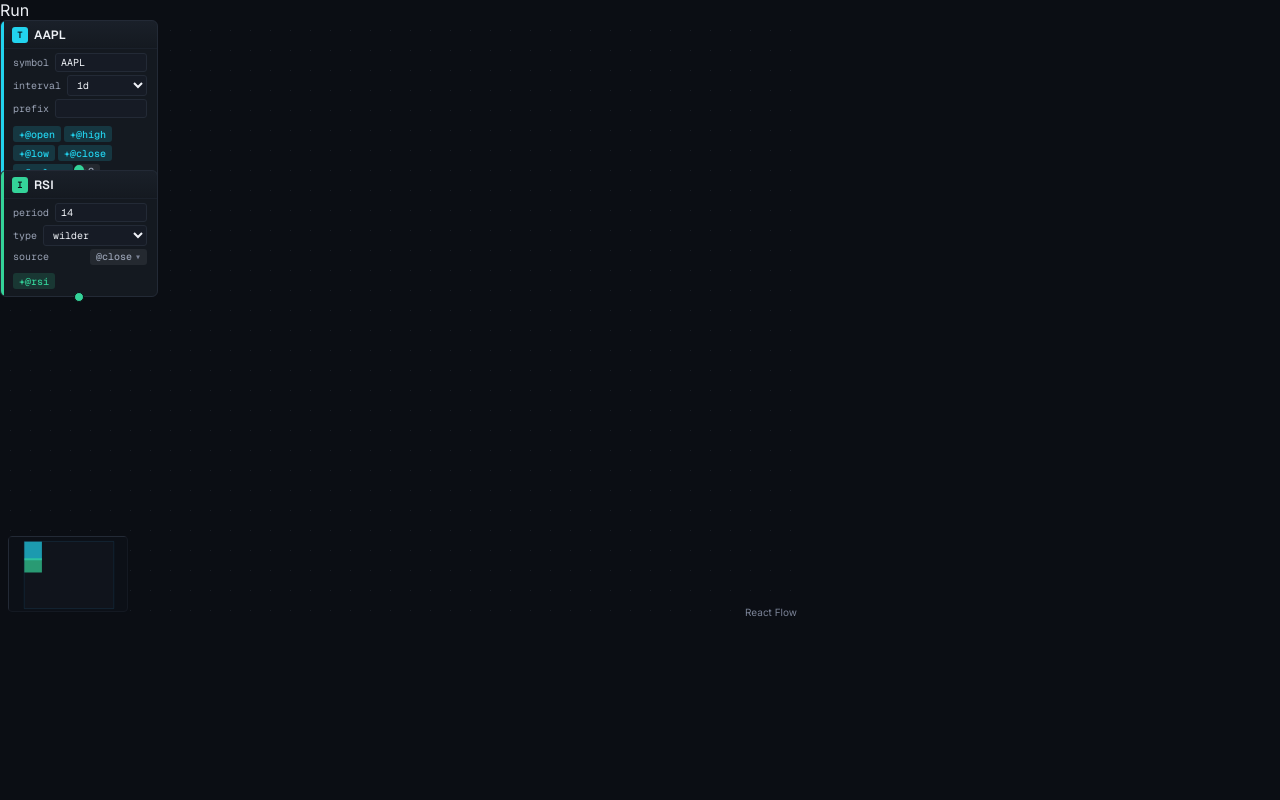
S49 code off › a graph without code: no banner, and the Tab menu’s Wrangle row is disabled and places nothing
Press Tab
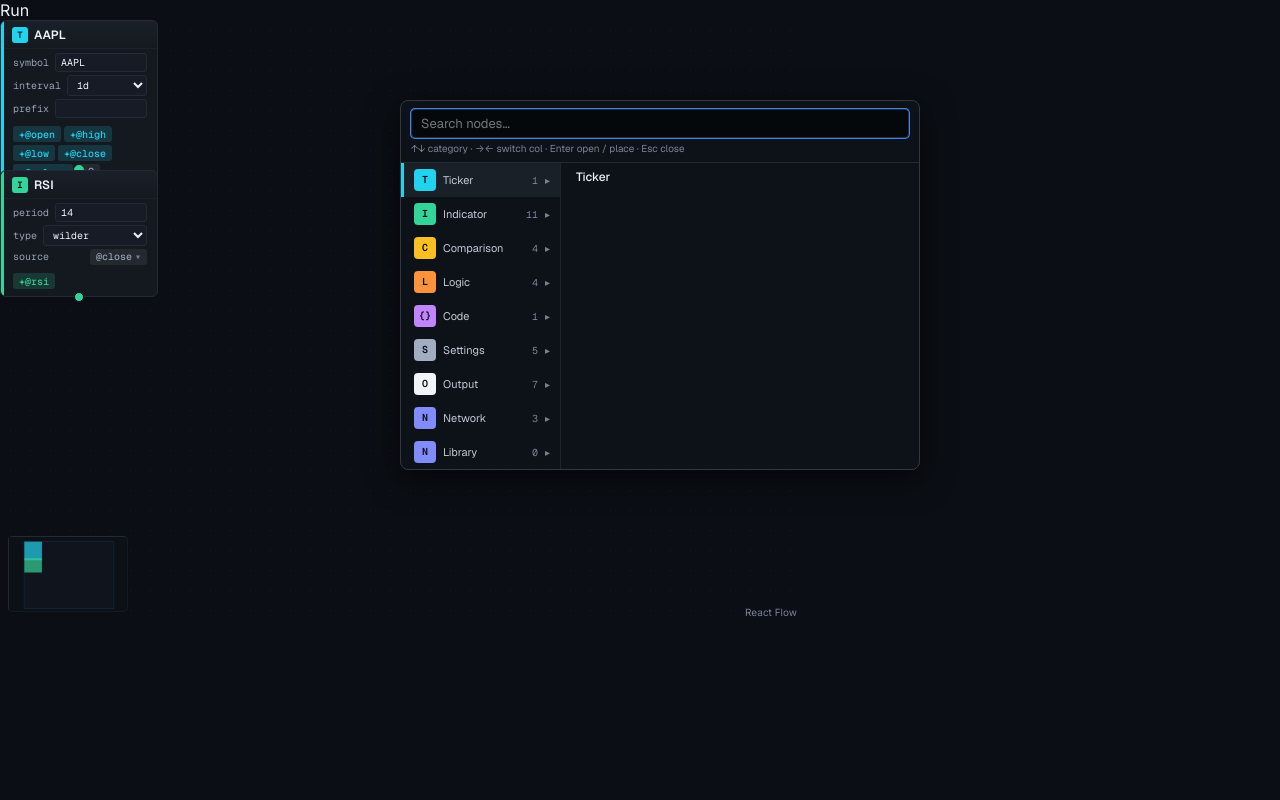
Type "wrangle" into the field with placeholder "Search nodes…" at [660, 124], box [411,109,909,138]
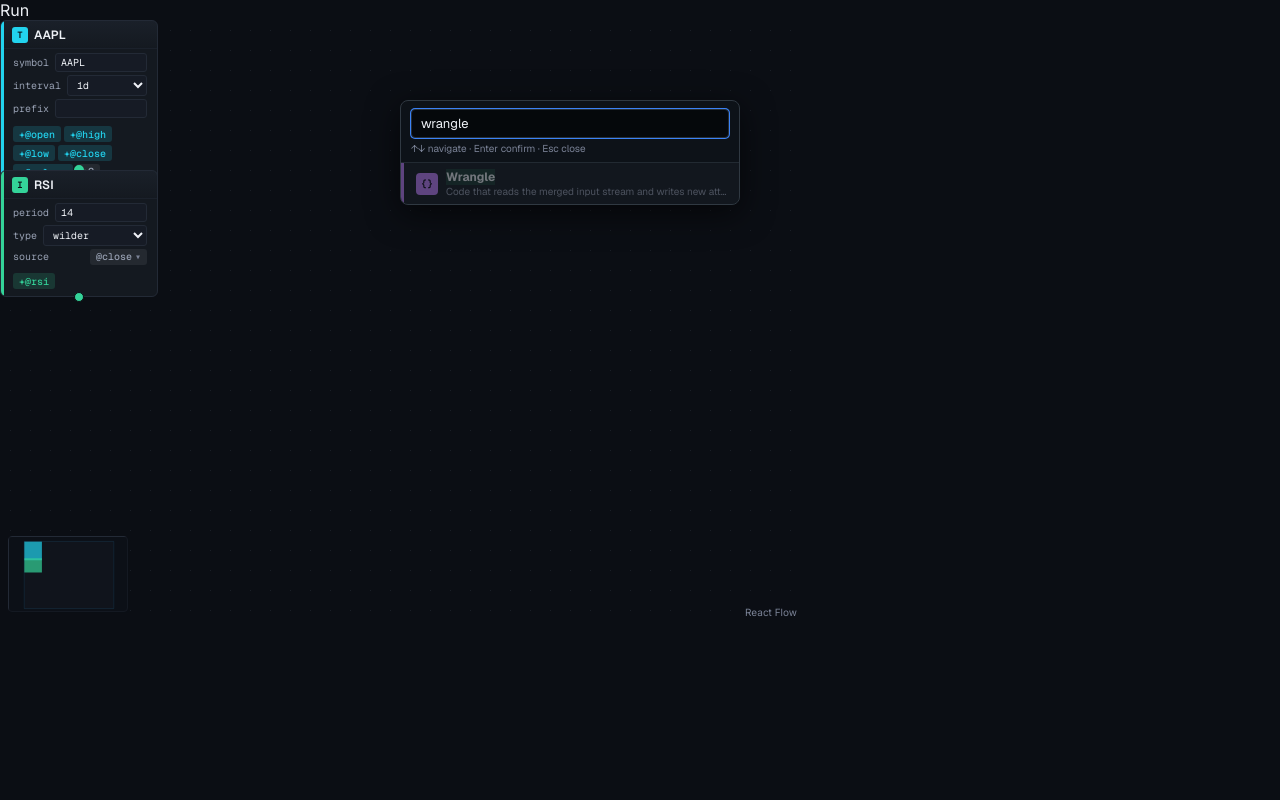
Press Enter in the 3rd field, box [411,109,729,138]
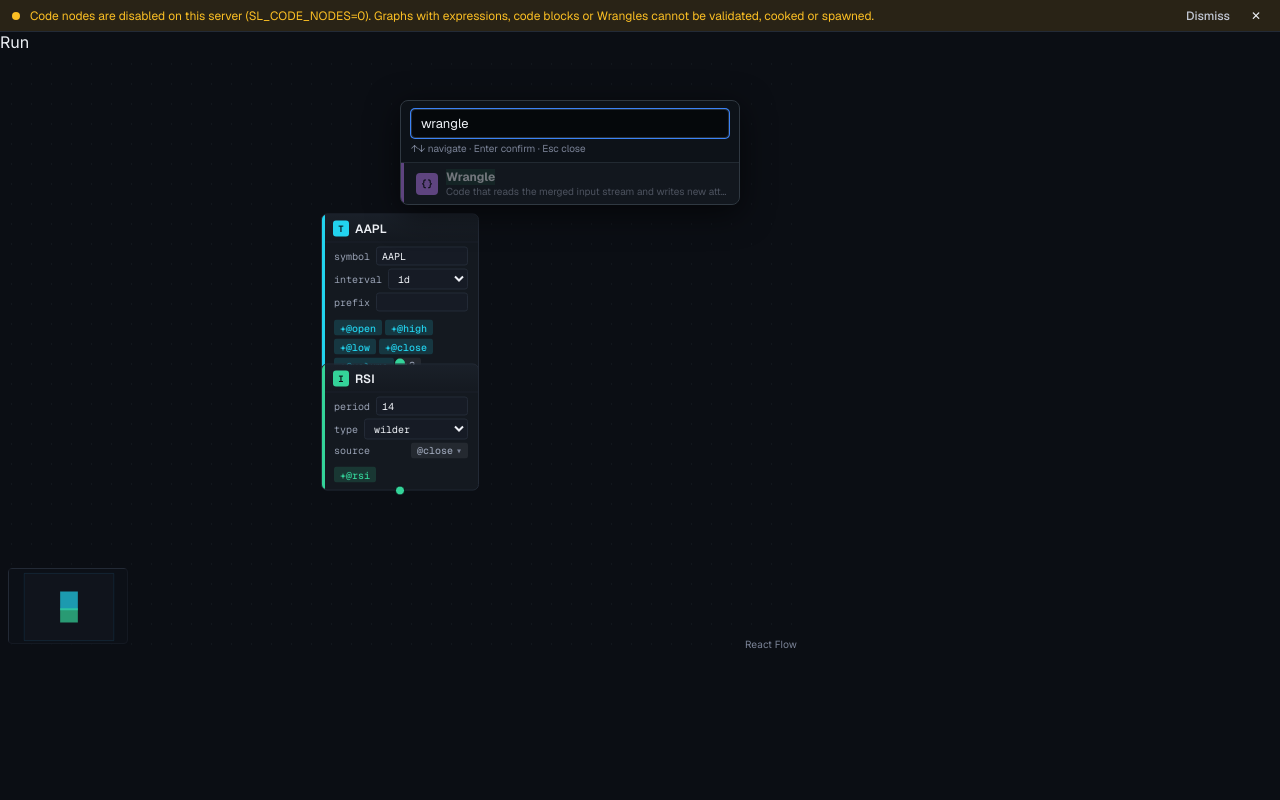
Check: the message with test id "nb-banner-code_disabled" is shown, box [0,0,1279,32]
